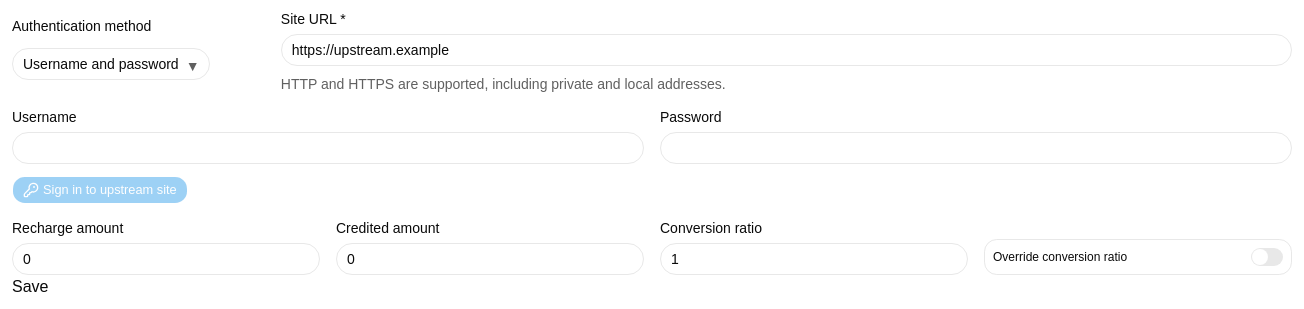
Scenario: 关闭转换倍率覆盖后恢复自动倍率
Replace the text in the number field labelled "Recharge amount" with "1" at (166, 259), box [12,243,320,275]
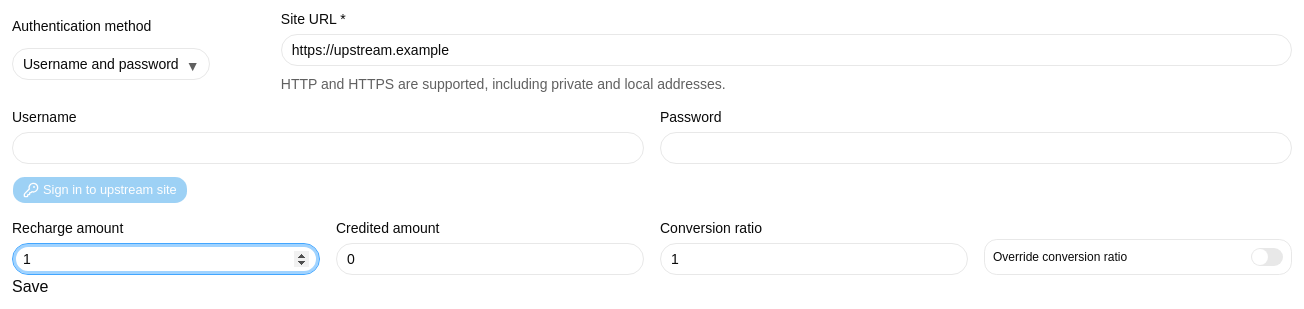
Replace the text in the number field labelled "Credited amount" with "10" at (490, 259), box [336,243,644,275]
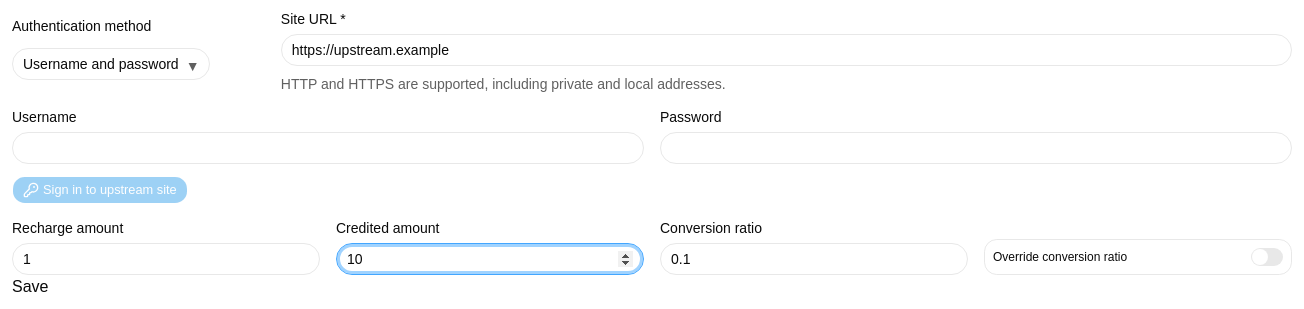
Replace the text in the number field labelled "Conversion ratio" with "0.25" at (814, 259), box [660,243,968,275]
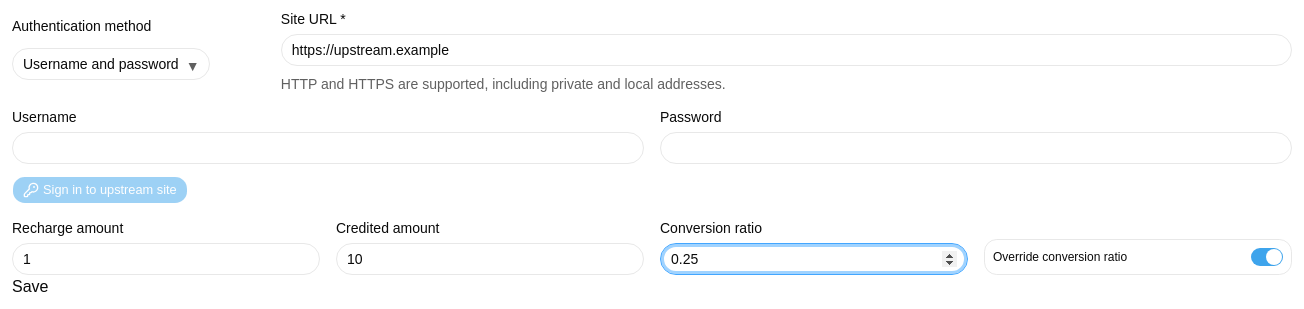
Click the switch named "Override conversion ratio" at (1267, 257), box [1251,248,1283,266]
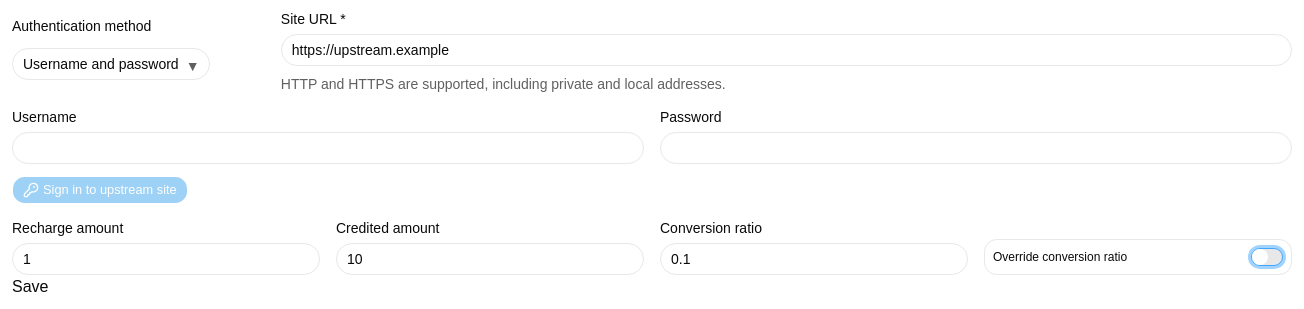
Expected: the switch named "Override conversion ratio" is not checked, [1251,248,1283,266]
Expected: the number field labelled "Conversion ratio" holds "0.1", [660,243,968,275]
